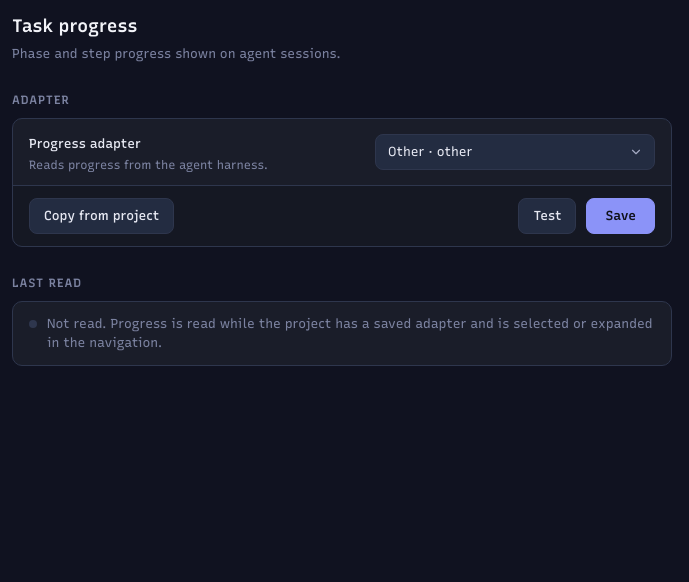
Test: TaskProgressSettings › Copy from project lists only other bound projects and copies into the form unsaved
This screenshot has width=689, height=582.
Step 1. Click the button with test id "settings-task-progress-copy" → (102, 216), box [29,198,174,234]
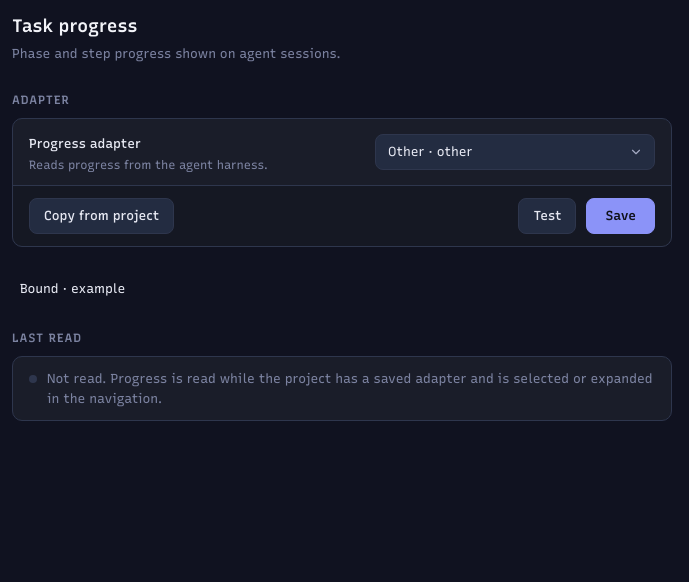
Expected: the element with test id "settings-task-progress-copy-list" shows "Bound"
Step 2. Click the button "Bound · example" → (73, 288), box [12,274,133,302]
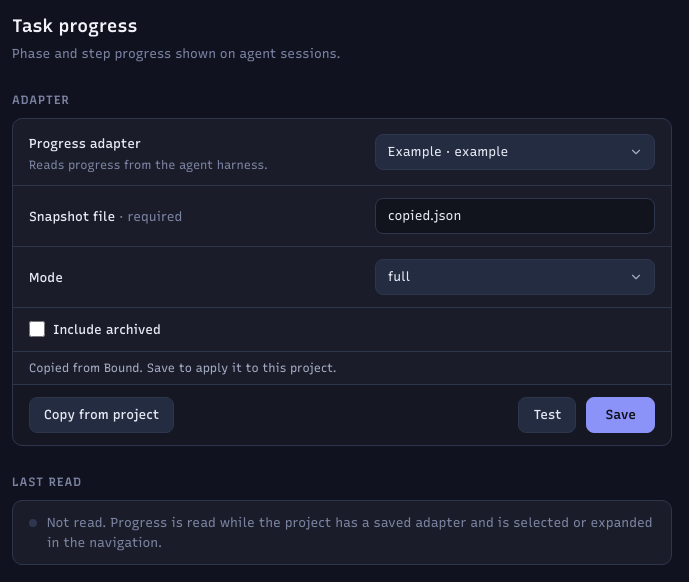
Expected: the dropdown with test id "settings-task-progress-adapter-select" shows "Example · example", [375,134,655,170]
Expected: the message with test id "settings-task-progress-copy-notice" shows "Bound", [104,361,139,375]
